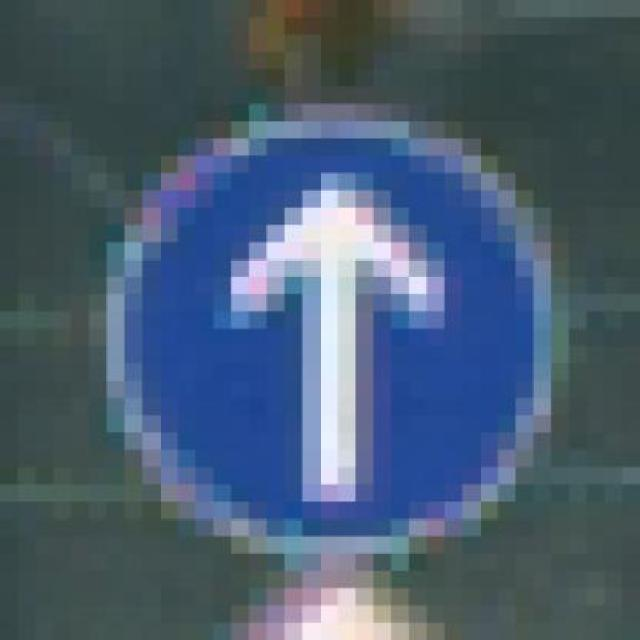Straight Ahead Only: (106, 69, 569, 588)
